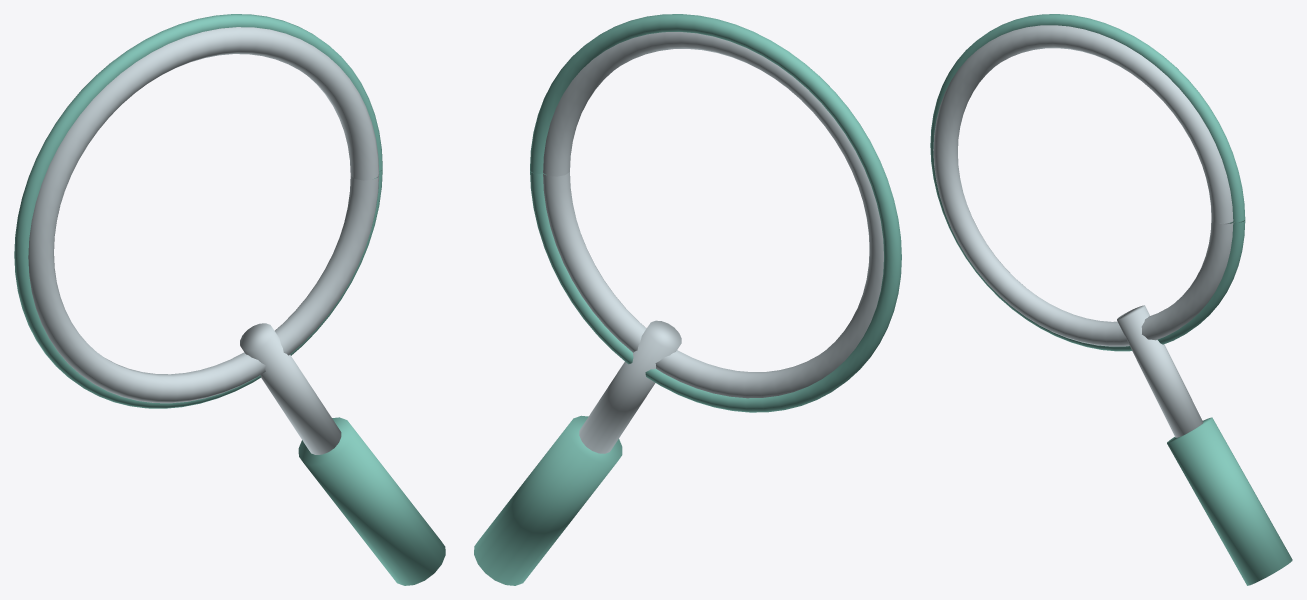
Rendered from tool-inspect.glb.
3 views of the same model, side by side, from view 1: azimuth 30°, elevation 25°; view 2: azimuth 150°, elevation 25°; view 3: azimuth 330°, elevation 25° (orthographic). The views are drawn at different scales.
Parts seen in each view (by area): view 1: optical metal rim, protective rim, grip, neck; view 2: optical metal rim, protective rim, grip, neck; view 3: optical metal rim, grip, protective rim, neck.
Boxes of the visible parts, box(x1,y1,x2,y2) form: optical metal rim: box(28, 27, 379, 403); protective rim: box(14, 14, 382, 408); grip: box(298, 417, 445, 585); neck: box(240, 323, 341, 454); optical metal rim: box(543, 32, 883, 398); protective rim: box(530, 14, 901, 412); grip: box(474, 415, 622, 585); neck: box(579, 320, 681, 453); optical metal rim: box(933, 25, 1234, 346); grip: box(1167, 417, 1292, 585); protective rim: box(930, 14, 1245, 351); neck: box(1117, 305, 1203, 437).
Size of the model in its own units: 1.17 by 1.61 by 0.148.
